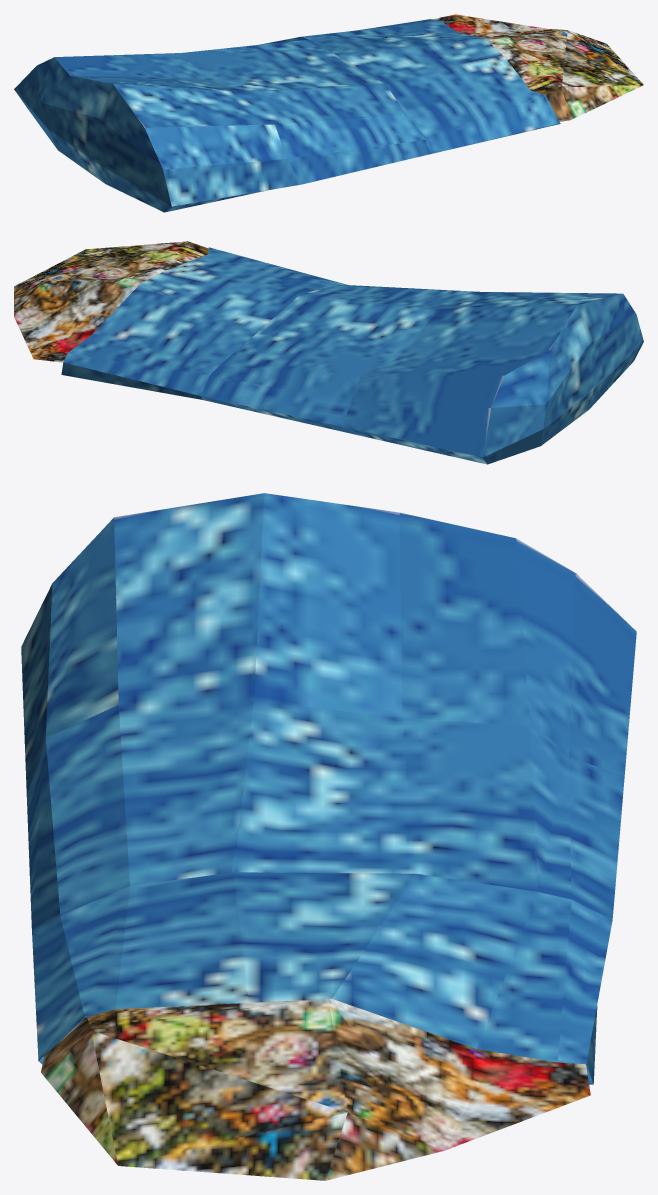
Rendered from bolsasbasura6.fbx.
The picture shows the model from 3 angles, top to bottom: view 1: azimuth 30°, elevation 25°; view 2: azimuth 150°, elevation 25°; view 3: azimuth 270°, elevation 25°; orthographic projection. The views are drawn at different scales.
Parts seen in each view (by area): view 1: trashbag_3_blue; view 2: trashbag_3_blue; view 3: trashbag_3_blue.
Part boxes in pixels (left/top/right/bottom): trashbag_3_blue: left=14, top=14, right=643, bottom=212; trashbag_3_blue: left=14, top=241, right=643, bottom=464; trashbag_3_blue: left=21, top=493, right=636, bottom=1180.
Bounding box in the file's own units: 173 × 31.75 × 86.94.
Materials: 2 (2 with a texture image).
